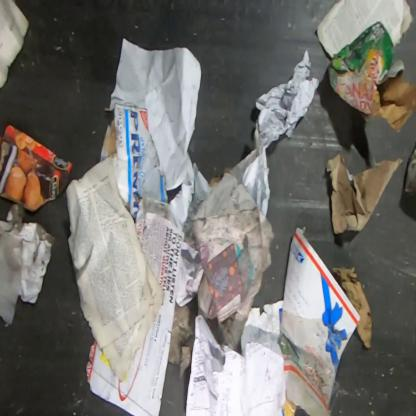cardboard: (277, 225, 362, 415), (329, 21, 415, 134), (102, 103, 168, 220), (0, 121, 74, 212), (332, 265, 374, 349)
